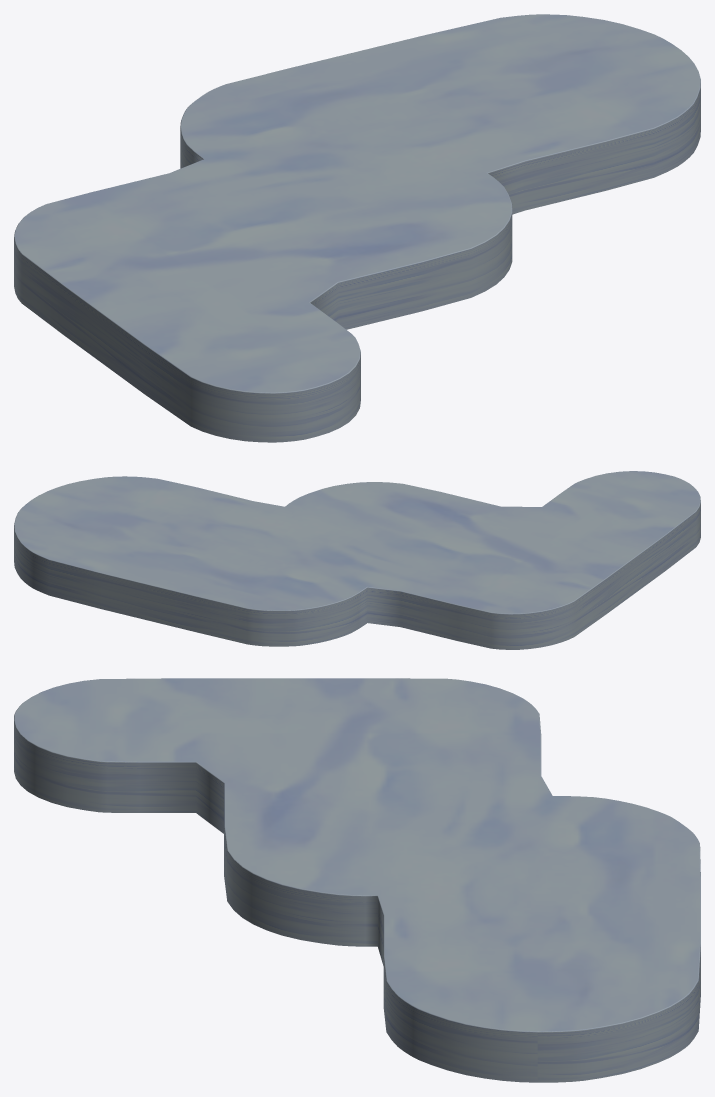
Rendered from blobs.glb.
3 views of the same model, one above another, from view 1: azimuth 30°, elevation 25°; view 2: azimuth 150°, elevation 25°; view 3: azimuth 270°, elevation 25° (orthographic). The views are drawn at different scales.
Parts seen in each view (by area): view 1: geometry_0; view 2: geometry_0; view 3: geometry_0.
Boxes of the visible parts, x1=… form: geometry_0: x1=14, y1=14, x2=700, y2=442; geometry_0: x1=14, y1=471, x2=700, y2=649; geometry_0: x1=14, y1=678, x2=700, y2=1082.
Size of the model in its own units: 89.14 by 6 by 73.14.
1 material, 1 textured.
